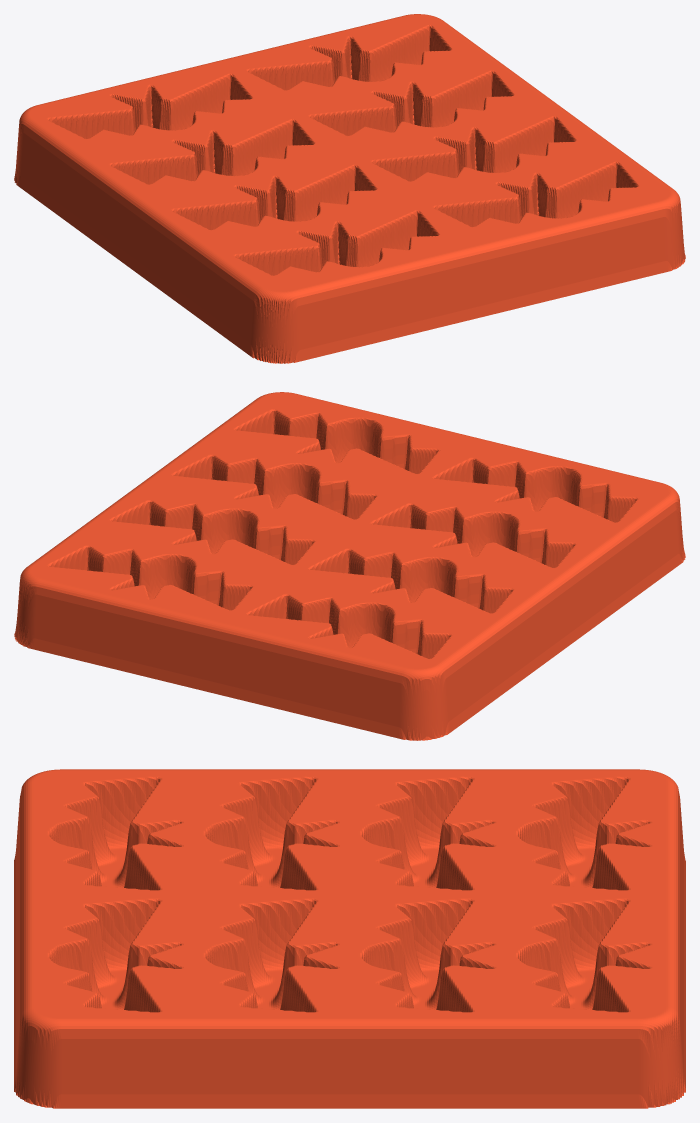
File: mold.glb
3 views of the same model, one above another, from view 1: azimuth 30°, elevation 25°; view 2: azimuth 150°, elevation 25°; view 3: azimuth 270°, elevation 25° (orthographic). The views are drawn at different scales.
Visible parts, largest first — view 1: geometry_0; view 2: geometry_0; view 3: geometry_0.
Part boxes in pixels (x1,y1,x2,y2): geometry_0: (14,14,685,363); geometry_0: (14,392,685,740); geometry_0: (14,769,685,1108).
Bounding box in the file's own units: 0.1209 × 0.0175 × 0.1301.
